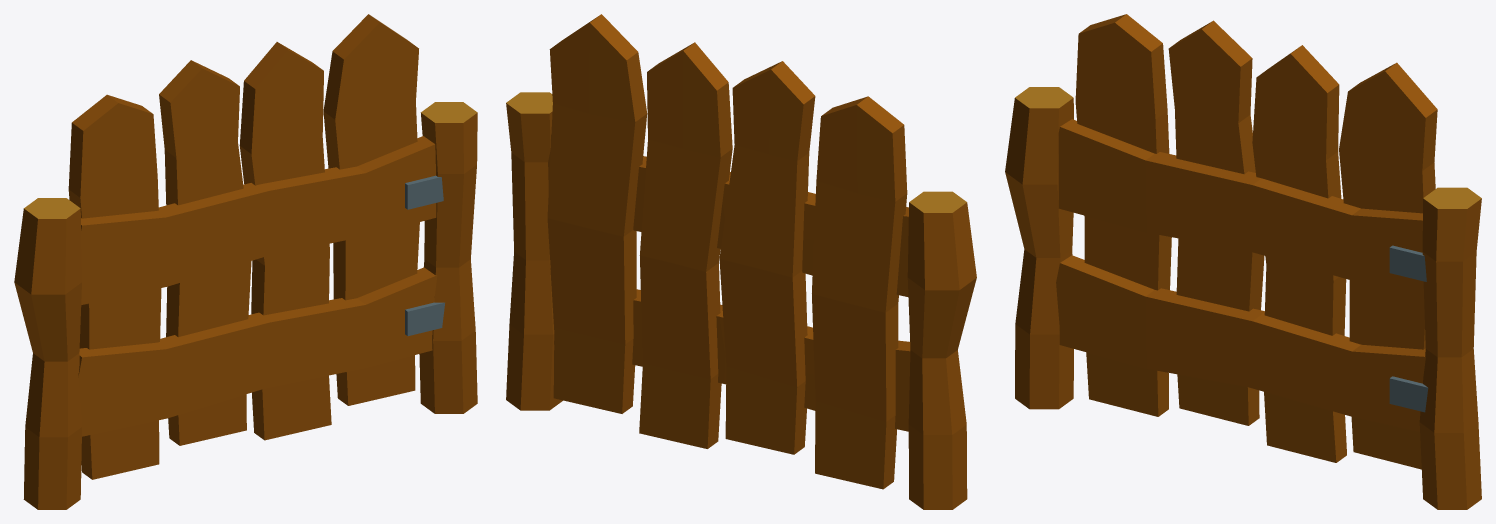
The model's file is fence_Door.fbx.
3 views of the same model, side by side, from view 1: azimuth 30°, elevation 25°; view 2: azimuth 150°, elevation 25°; view 3: azimuth 330°, elevation 25° (orthographic). The views are drawn at different scales.
Visible parts, largest first — view 1: door, fence_Door; view 2: door, fence_Door; view 3: door, fence_Door.
Part boxes in pixels (<box>): door: <box>68,14,444,479</box>; fence_Door: <box>14,102,477,509</box>; door: <box>547,14,910,489</box>; fence_Door: <box>506,92,976,509</box>; door: <box>1056,14,1437,469</box>; fence_Door: <box>1005,87,1481,509</box>.
Bounding box in the file's own units: 493 × 418 × 64.87.
